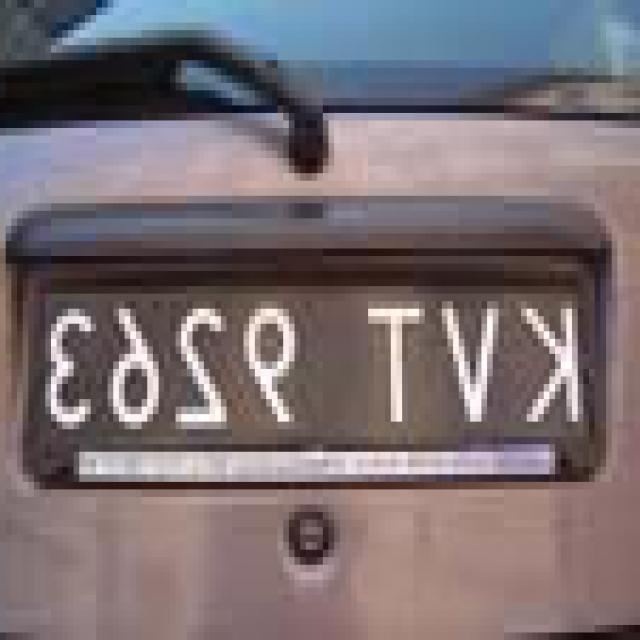pl_license_plate: (45, 278, 600, 436)
